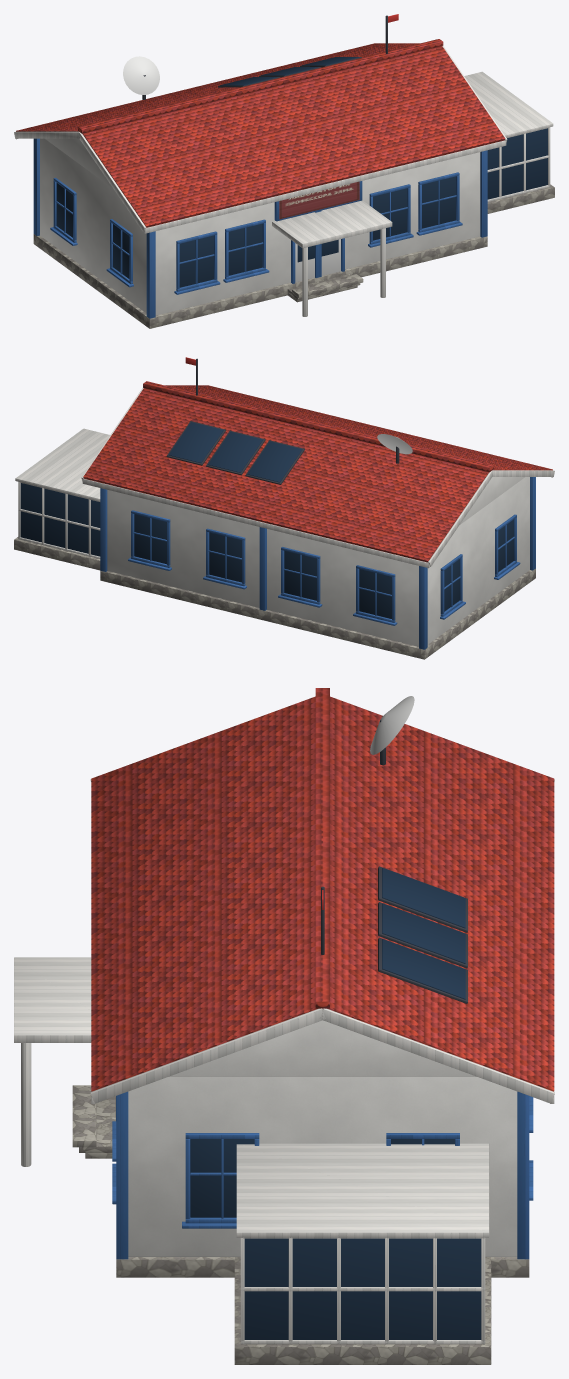
The model's file is elm_lab.glb.
3 renders of one model, top to bottom at view 1: azimuth 30°, elevation 25°; view 2: azimuth 150°, elevation 25°; view 3: azimuth 270°, elevation 25°, orthographic. The views are drawn at different scales.
Visible parts, largest first — view 1: elm_lab; view 2: elm_lab; view 3: elm_lab.
Part boxes in pixels (x1=…): elm_lab: x1=14, y1=14, x2=554, y2=328; elm_lab: x1=14, y1=357, x2=554, y2=659; elm_lab: x1=14, y1=688, x2=554, y2=1364.
Size of the model in its own units: 23.09 by 9.76 by 13.49.
10 materials, 10 textured.
